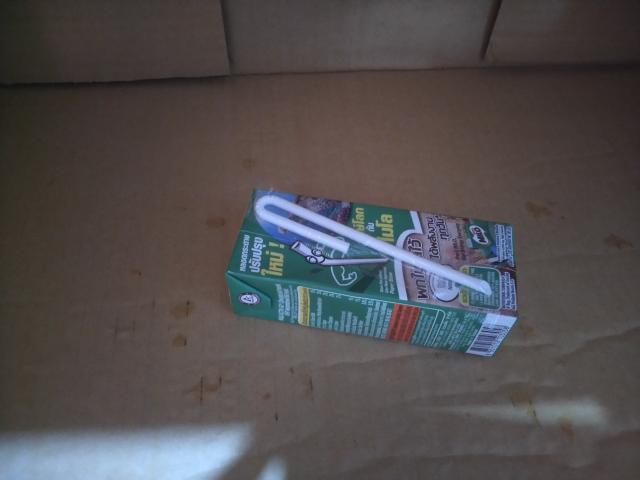drink_box: (210, 170, 530, 372)
